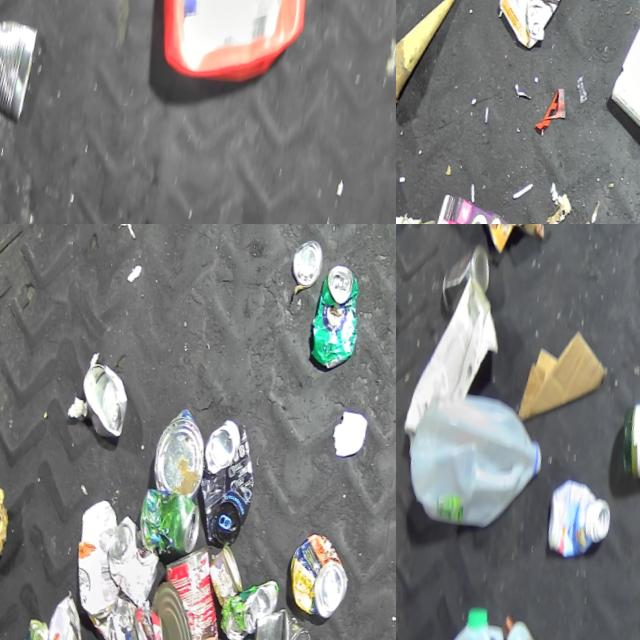can: (179, 415, 264, 549), (137, 540, 233, 640), (299, 260, 370, 374), (274, 529, 352, 622), (92, 513, 164, 611), (140, 403, 212, 499), (0, 8, 47, 128), (129, 486, 203, 562), (432, 235, 496, 321), (67, 356, 134, 438), (208, 570, 277, 640), (124, 580, 203, 640), (195, 542, 246, 610), (228, 603, 317, 640), (29, 592, 87, 640), (471, 224, 540, 258), (284, 237, 325, 290)
milk_jug: (396, 383, 551, 540), (413, 600, 530, 640)
non_white_jug: (119, 0, 349, 111), (486, 0, 590, 58)
